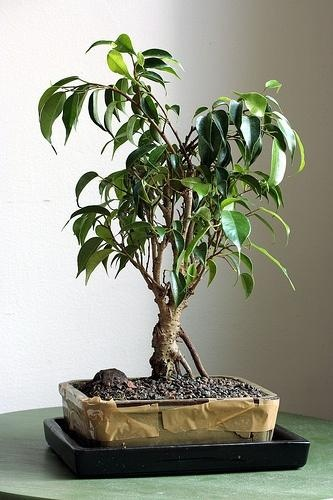pottedplant: (38, 32, 306, 450)
